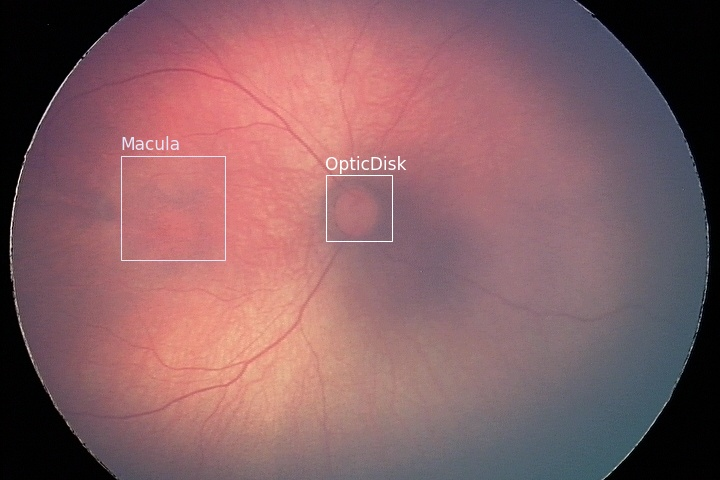Macula: (120, 155, 224, 259)
OpticDisk: (325, 174, 391, 240)
